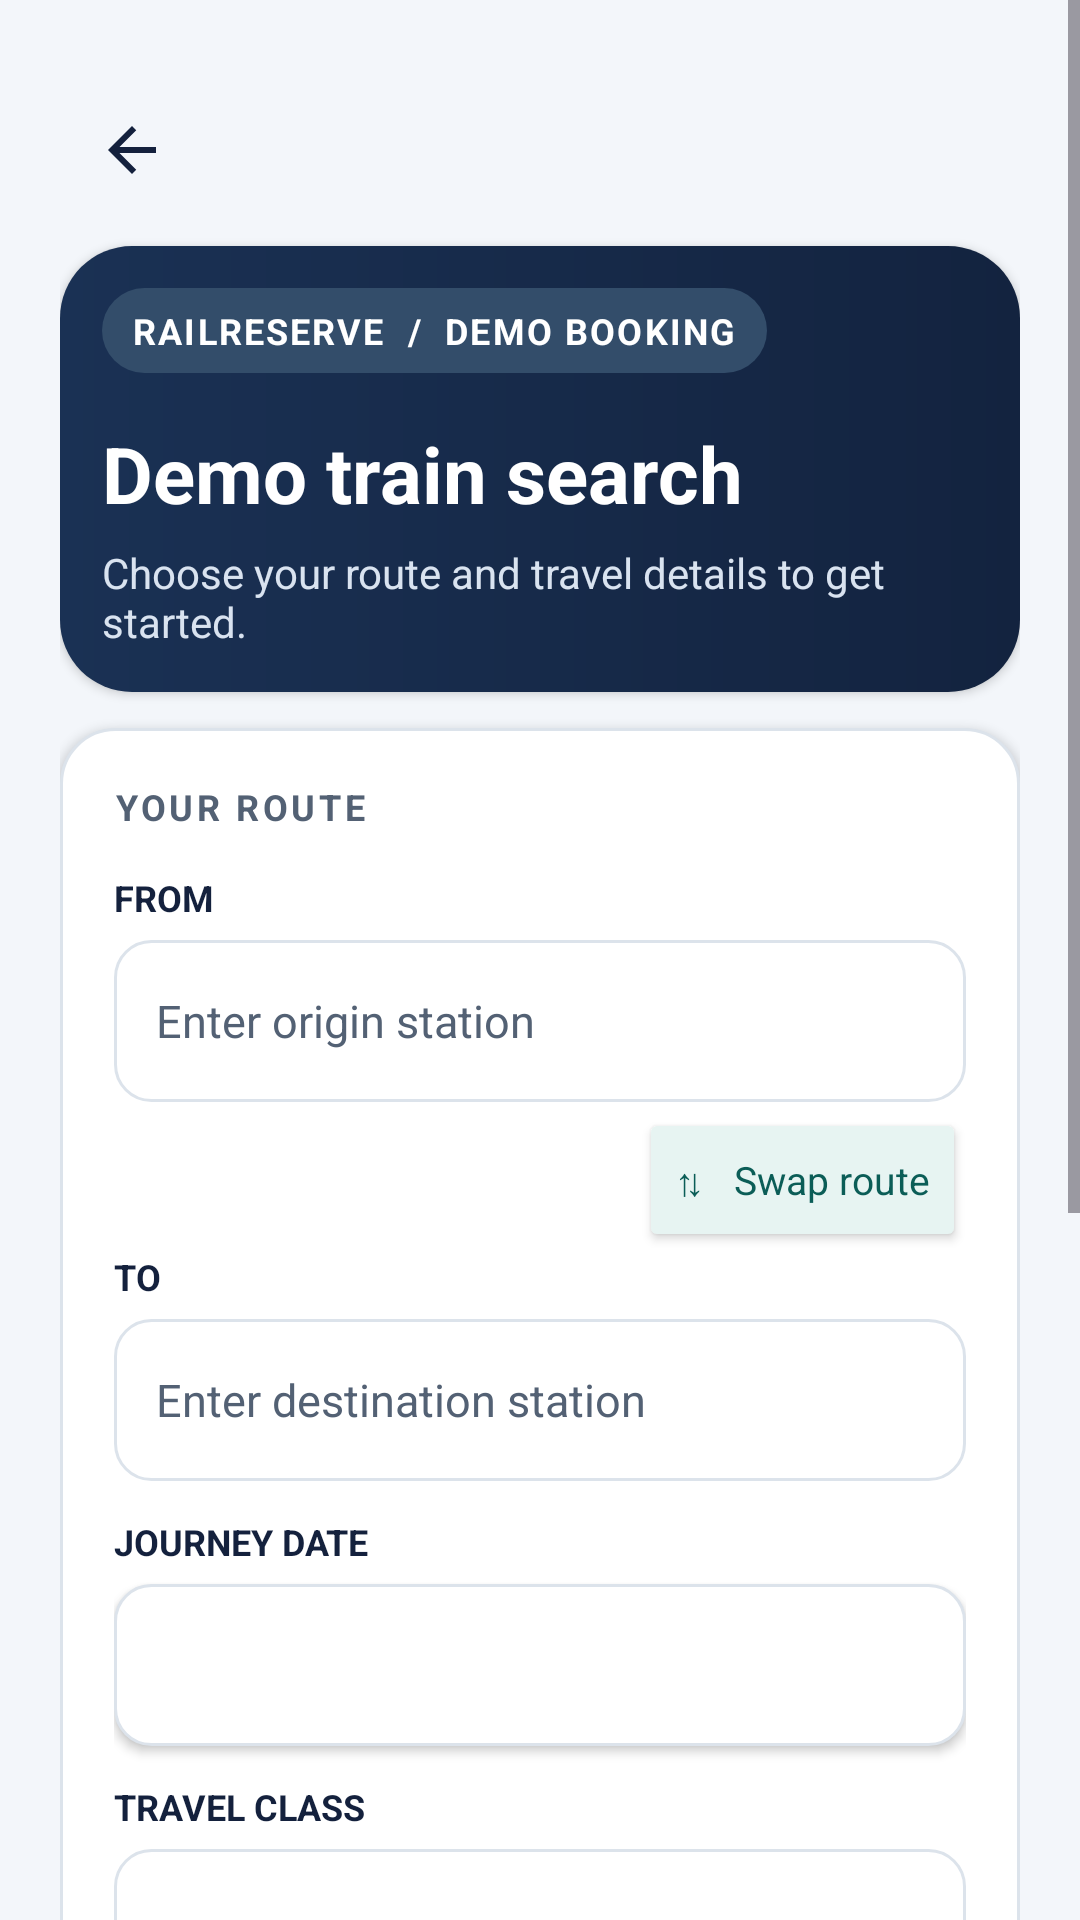

Icons on this 1080px×1920px Android screen, each with its box as box=[x1, y1, x2, y2]:
Back to previous screen: box=[108, 126, 156, 174]
